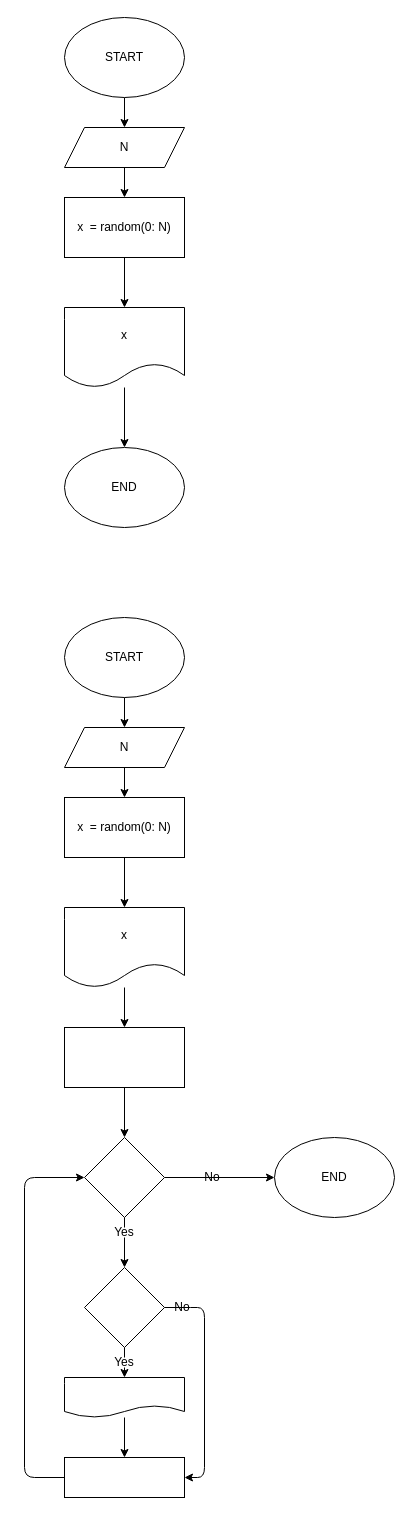
This 412x1515 diagram has some shape labels left out. Here are the shapes that lost their labels. From the top down, the box of each, then its label:
(64, 1026, 184, 1088): odd = 1
(84, 1136, 164, 1218): odd <= N?
(84, 1266, 164, 1348): odd%2 == 0?
(64, 1376, 184, 1418): odd
(64, 1456, 184, 1498): odd += 1
